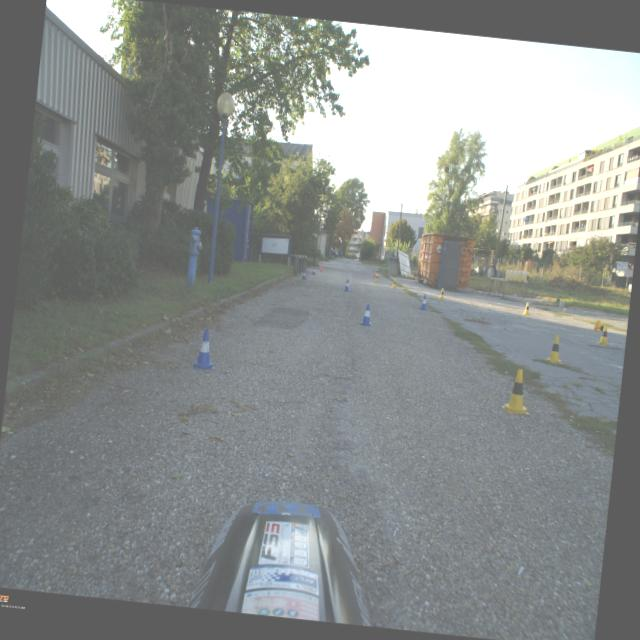blue_cone: (190, 328, 218, 370), (360, 303, 374, 326), (418, 294, 429, 310), (342, 278, 351, 292), (300, 270, 308, 280), (311, 266, 316, 274)
orange_cone: (372, 270, 376, 278), (319, 264, 323, 272)
yellow_cone: (500, 367, 534, 415), (544, 334, 566, 364), (595, 324, 612, 345), (592, 319, 604, 331), (522, 302, 532, 314), (438, 287, 446, 299), (392, 278, 398, 288), (374, 272, 380, 282)
